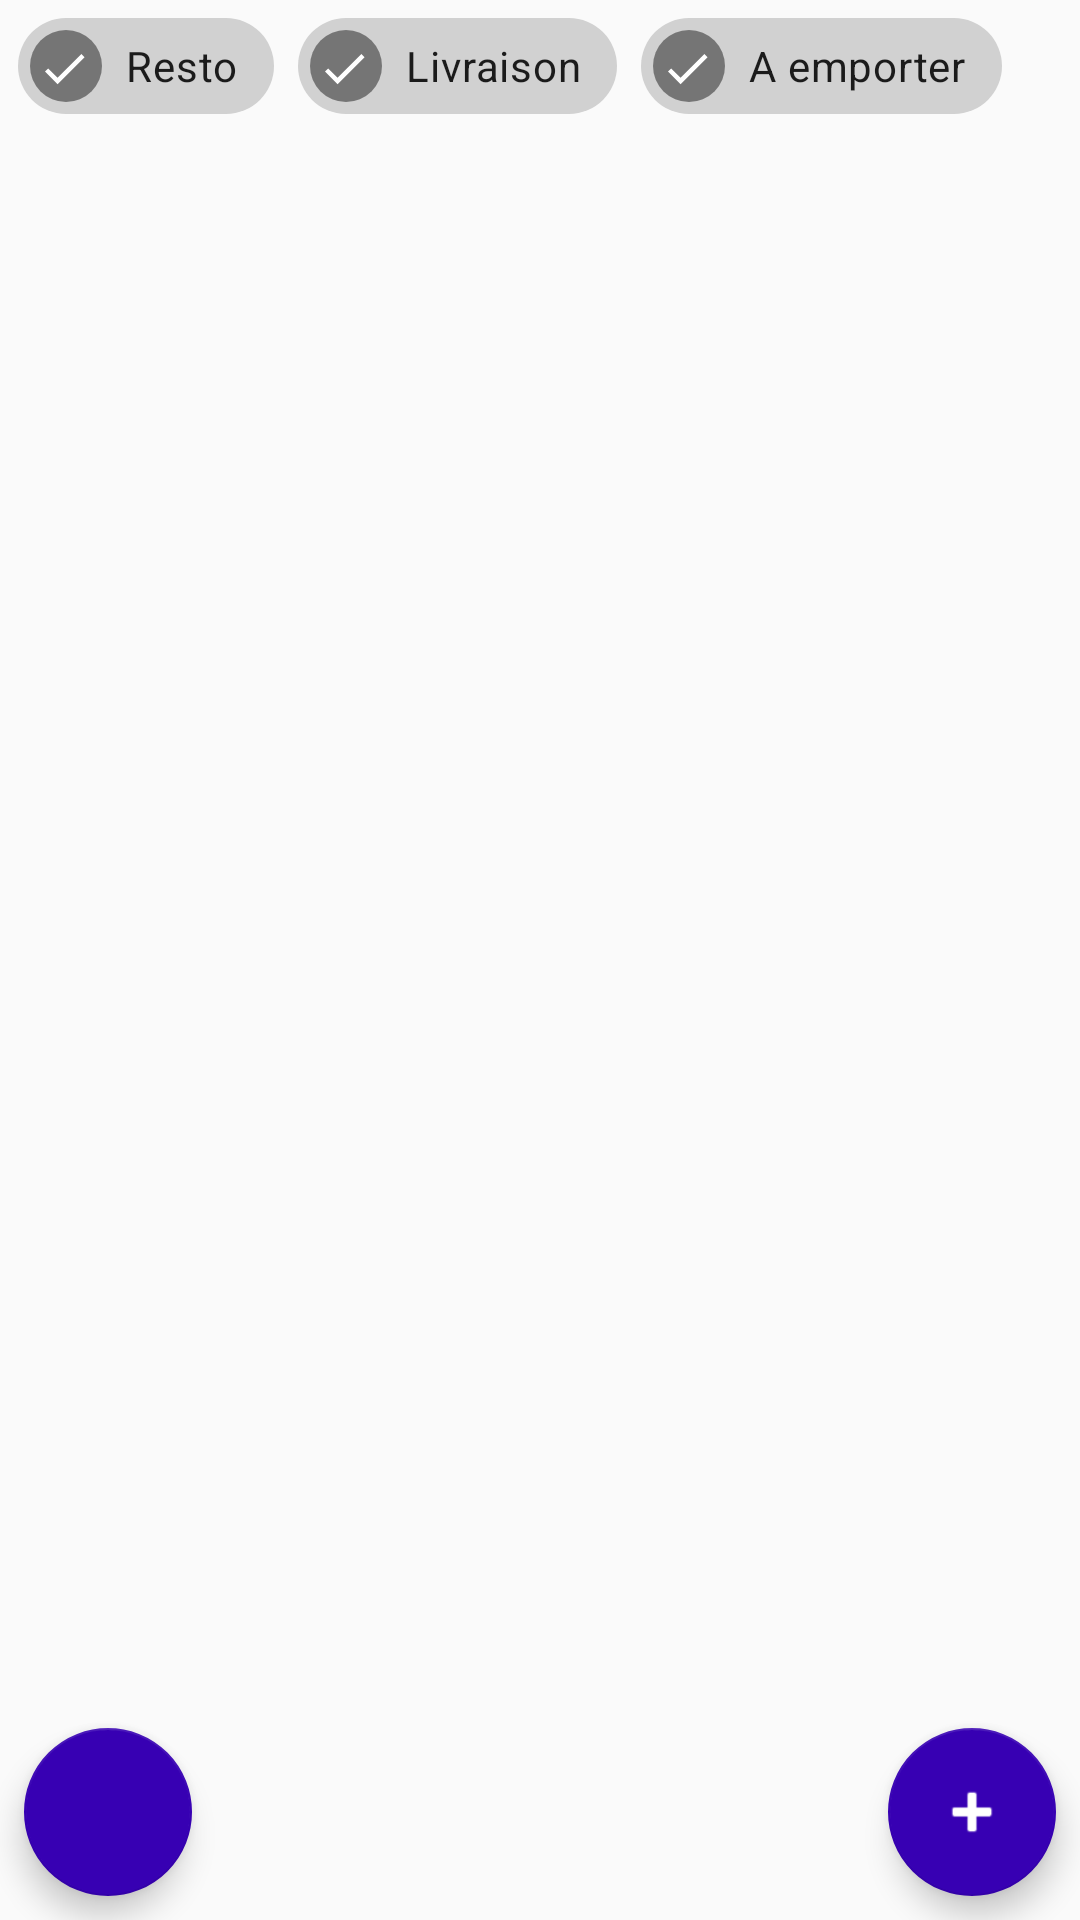

Screen size 1080 × 1920. Icon name, then its center in pixels as (x,y):
Ajouter un resto: (972,1812)
